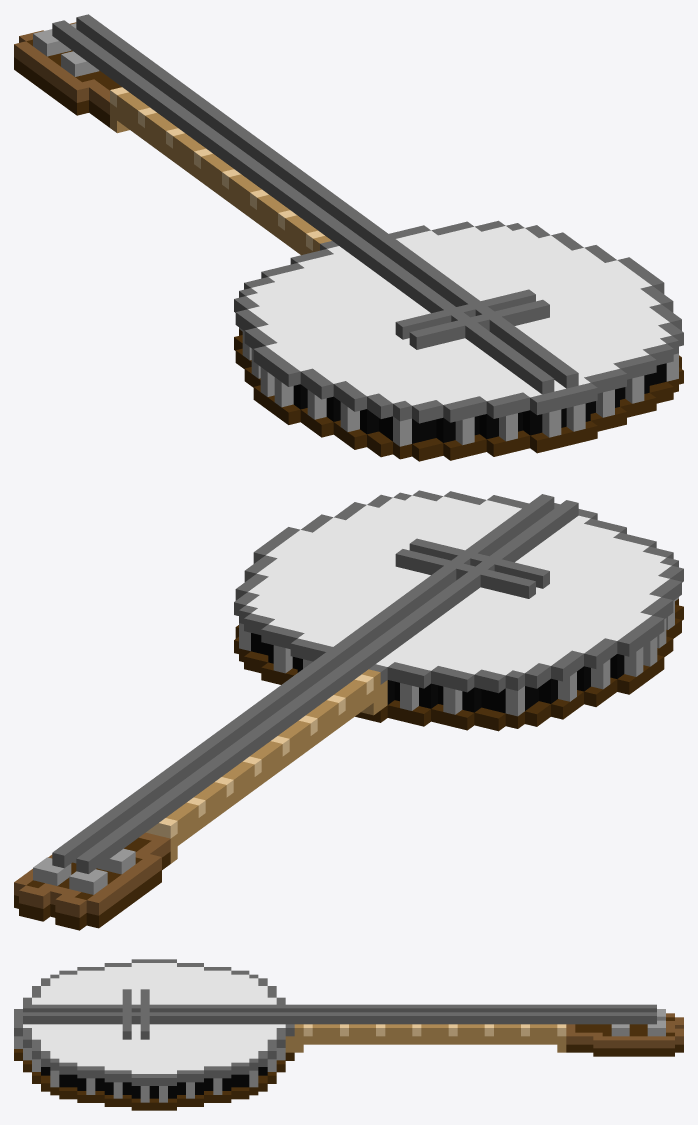
Rendered from banjo.obj.
3 renders of one model, top to bottom at view 1: azimuth 30°, elevation 25°; view 2: azimuth 150°, elevation 25°; view 3: azimuth 270°, elevation 25°, orthographic. The views are drawn at different scales.
Size of the model in its own units: 3.1 by 0.5 by 7.4.
Materials: 1 (1 with a texture image).
